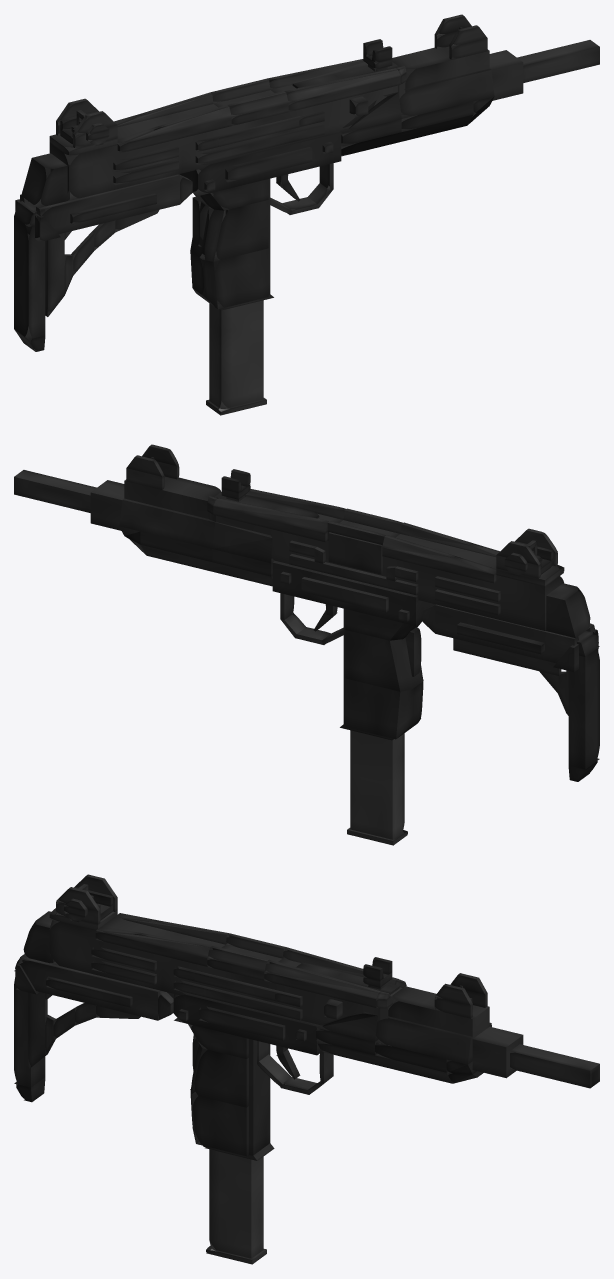
File: uzi.obj
The picture shows the model from 3 angles, top to bottom: view 1: azimuth 30°, elevation 25°; view 2: azimuth 150°, elevation 25°; view 3: azimuth 330°, elevation 25°; orthographic projection.
Parts seen in each view (by area): view 1: gunModel0, ammoModel0, gunModel84, gunModel72, gunModel1, gunModel23, gunModel61, gunModel63, gunModel18, gunModel31, gunModel76, gunModel2 (+28 smaller); view 2: gunModel0, ammoModel0, gunModel84, gunModel1, gunModel70, gunModel23, gunModel61, gunModel63, gunModel18, gunModel31, gunModel2, gunModel76 (+26 smaller); view 3: gunModel0, ammoModel0, gunModel72, gunModel1, gunModel23, gunModel61, gunModel18, gunModel63, gunModel31, gunModel67, gunModel2, gunModel30 (+25 smaller).
Part boxes in pixels (left/top/right/bottom): gunModel0: left=49, top=85, right=397, bottom=200; ammoModel0: left=209, top=192, right=263, bottom=411; gunModel84: left=14, top=216, right=45, bottom=339; gunModel72: left=36, top=174, right=179, bottom=237; gunModel1: left=179, top=131, right=341, bottom=195; gunModel23: left=399, top=68, right=494, bottom=118; gunModel61: left=200, top=248, right=268, bottom=309; gunModel63: left=202, top=200, right=268, bottom=261; gunModel18: left=392, top=46, right=489, bottom=92; gunModel31: left=517, top=40, right=599, bottom=82; gunModel76: left=21, top=153, right=69, bottom=207; gunModel2: left=117, top=104, right=231, bottom=153; gunModel0: left=216, top=515, right=563, bottom=630; ammoModel0: left=350, top=730, right=404, bottom=839; gunModel84: left=568, top=648, right=599, bottom=769; gunModel1: left=272, top=561, right=433, bottom=625; gunModel70: left=435, top=604, right=578, bottom=663; gunModel23: left=119, top=498, right=215, bottom=548; gunModel61: left=345, top=678, right=400, bottom=739; gunModel63: left=345, top=630, right=399, bottom=691; gunModel18: left=124, top=476, right=221, bottom=518; gunModel31: left=14, top=470, right=96, bottom=512; gunModel2: left=382, top=534, right=496, bottom=583; gunModel76: left=545, top=583, right=590, bottom=637; gunModel0: left=49, top=914, right=378, bottom=1043; ammoModel0: left=209, top=1149, right=263, bottom=1258; gunModel72: left=19, top=954, right=160, bottom=1020; gunModel1: left=173, top=991, right=323, bottom=1055; gunModel23: left=375, top=1016, right=491, bottom=1064; gunModel61: left=193, top=1096, right=248, bottom=1156; gunModel18: left=388, top=986, right=489, bottom=1038; gunModel63: left=192, top=1050, right=248, bottom=1107; gunModel31: left=510, top=1044, right=599, bottom=1088; gunModel67: left=249, top=1039, right=270, bottom=1155; gunModel2: left=95, top=916, right=225, bottom=966; gunModel30: left=472, top=1026, right=523, bottom=1078.
Bounding box in the file's own units: 13.6 × 7.55 × 1.25.
